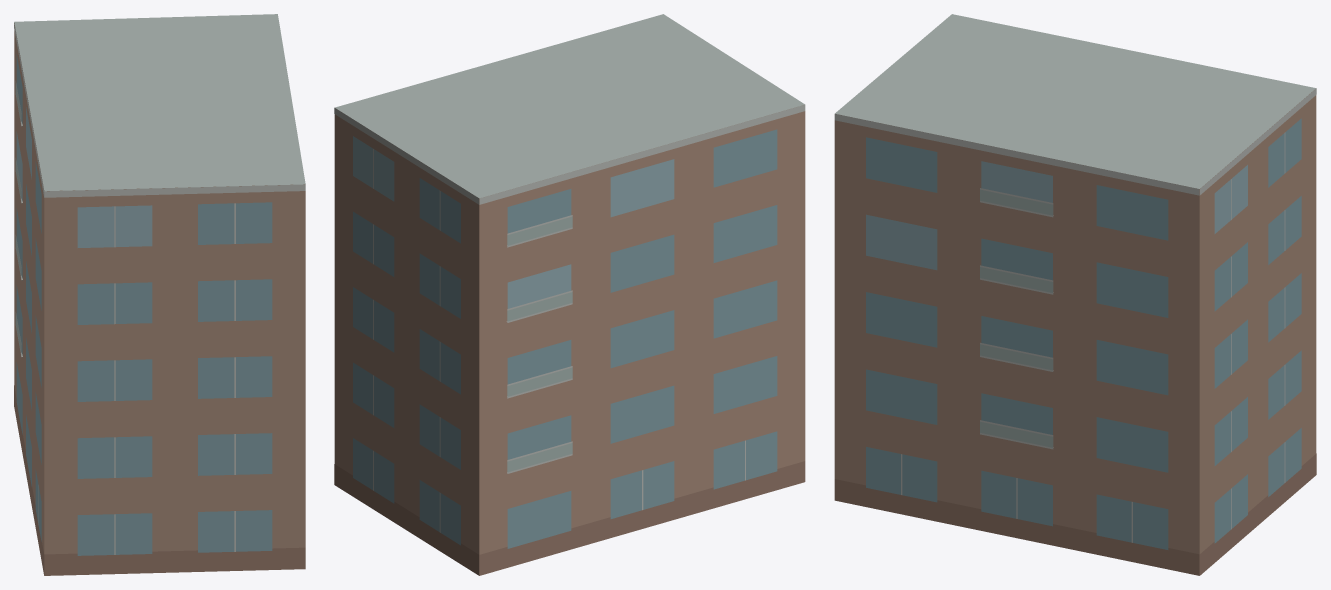
The model's file is survey-upis-32893930.glb.
3 views of the same model, side by side, from view 1: azimuth 30°, elevation 25°; view 2: azimuth 150°, elevation 25°; view 3: azimuth 270°, elevation 25° (orthographic). The views are drawn at different scales.
Visible parts, largest first — view 1: survey-upis-32893930.tmp; view 2: survey-upis-32893930.tmp; view 3: survey-upis-32893930.tmp.
Boxes of the visible parts, left/top/right/bottom form: survey-upis-32893930.tmp: left=14, top=14, right=305, bottom=575; survey-upis-32893930.tmp: left=334, top=14, right=805, bottom=575; survey-upis-32893930.tmp: left=834, top=14, right=1316, bottom=575.
Size of the model in its own units: 13.79 by 14.2 by 16.04.
